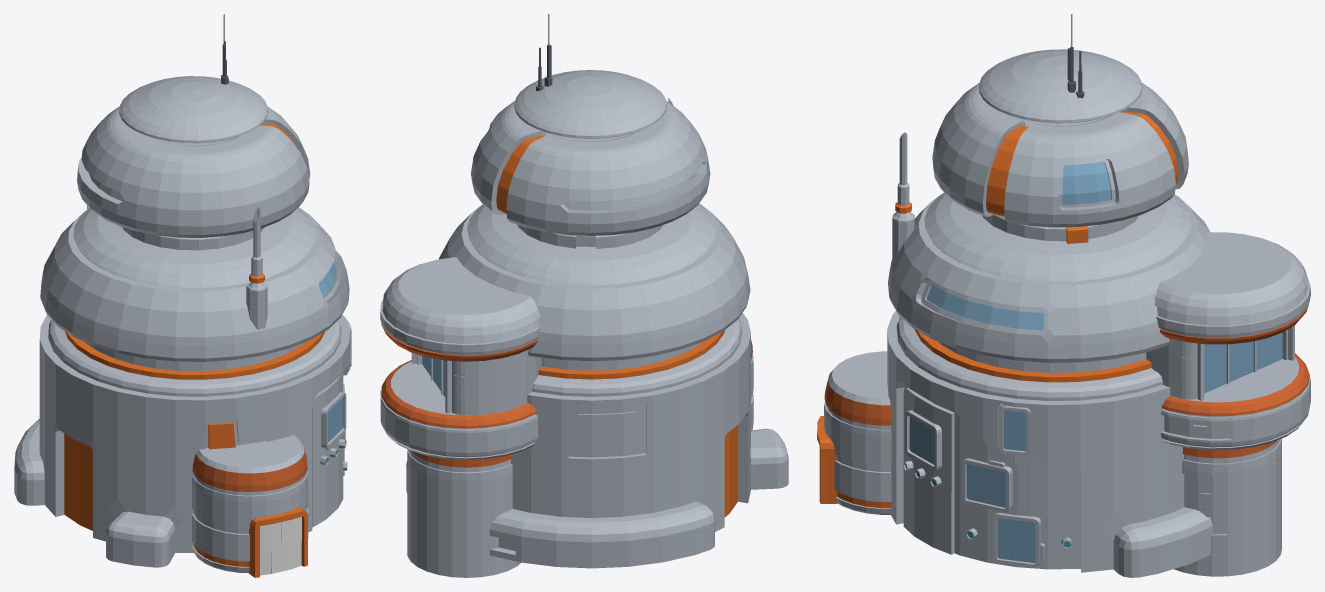
Rendered from Building_02.fbx.
3 renders of one model, left to right at view 1: azimuth 30°, elevation 25°; view 2: azimuth 150°, elevation 25°; view 3: azimuth 270°, elevation 25°, orthographic. The views are drawn at different scales.
Visible parts, largest first — view 1: Building_02; view 2: Building_02; view 3: Building_02.
Boxes of the visible parts, x1,y1,x2,y2 form: Building_02: (14,14,351,577); Building_02: (380,14,788,577); Building_02: (817,14,1310,577).
Size of the model in its own units: 1189 by 1880 by 1593.
2 materials, 2 textured.
